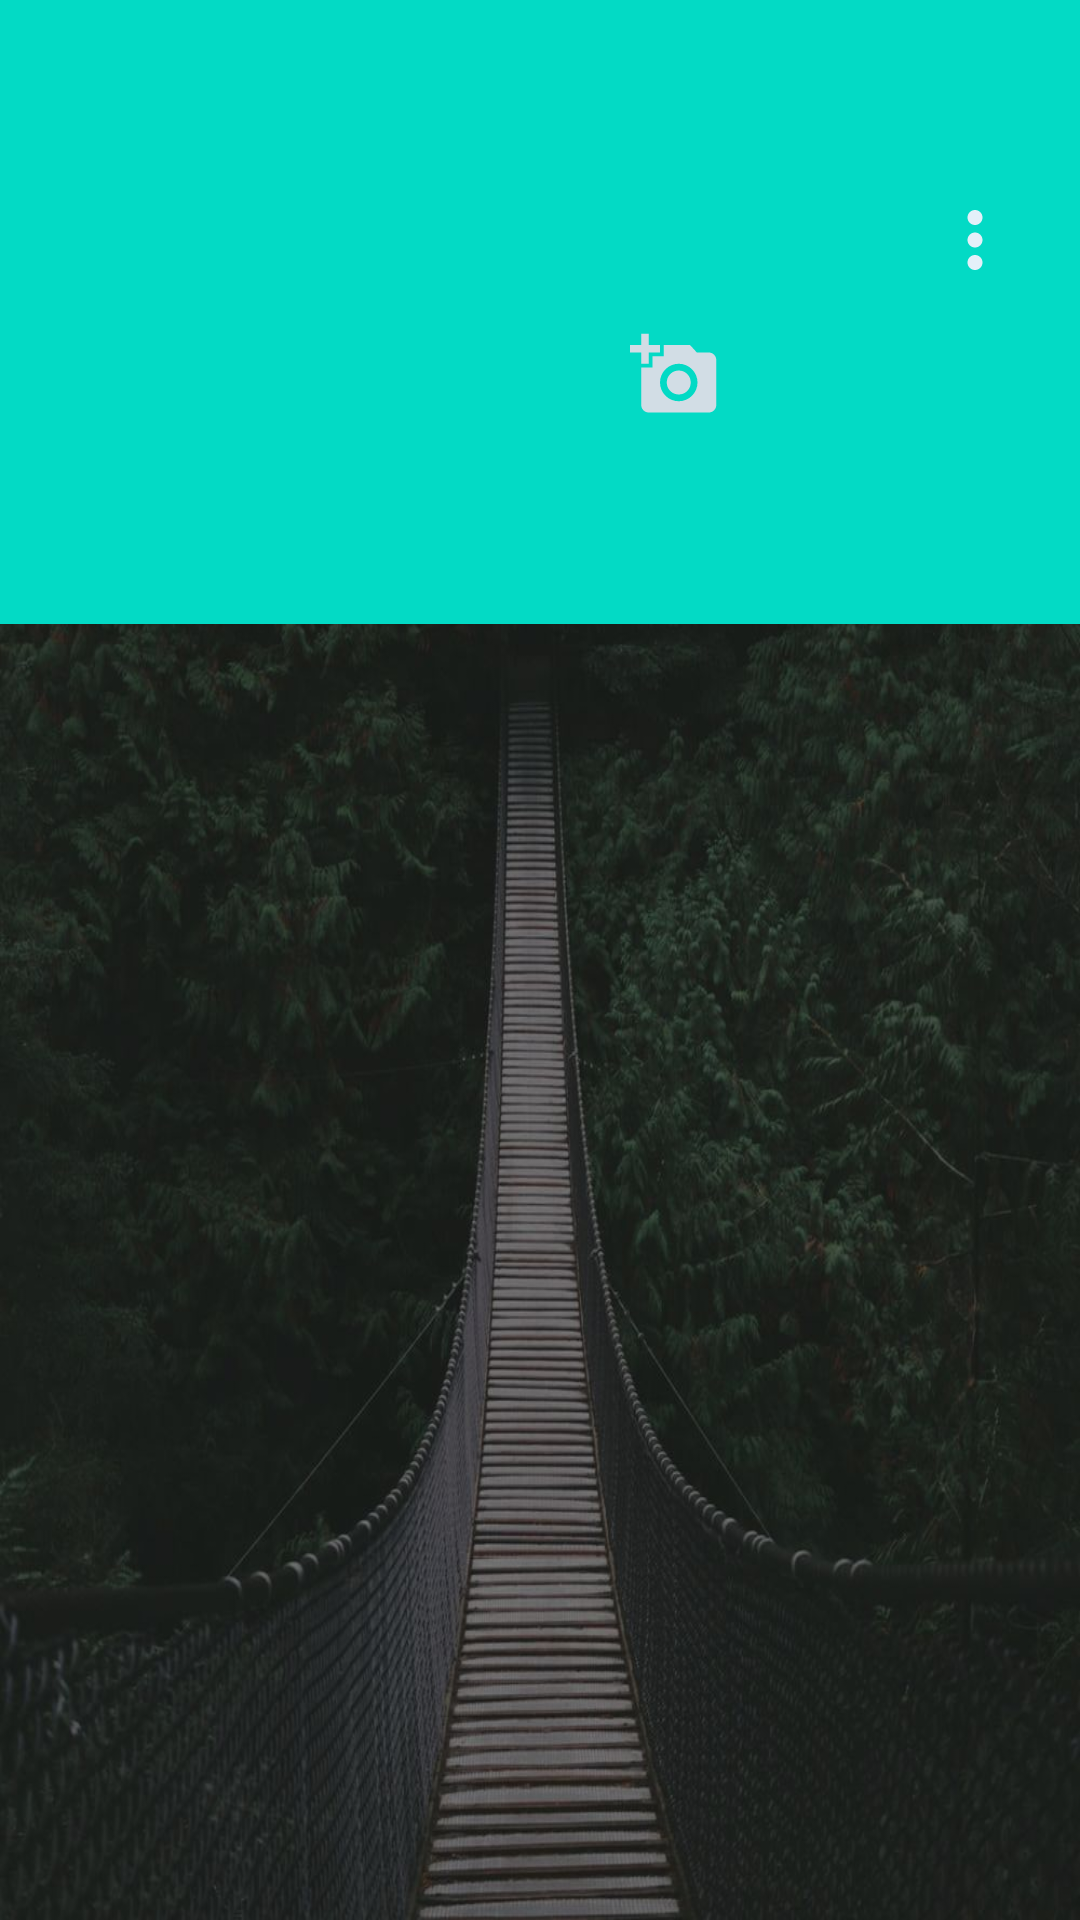

Named icons in this screenshot (1080*1920) and their bounding boxes, (x1, y1, x2, y2):
add photo: (630, 333, 717, 413)
more vert: (967, 210, 983, 270)
